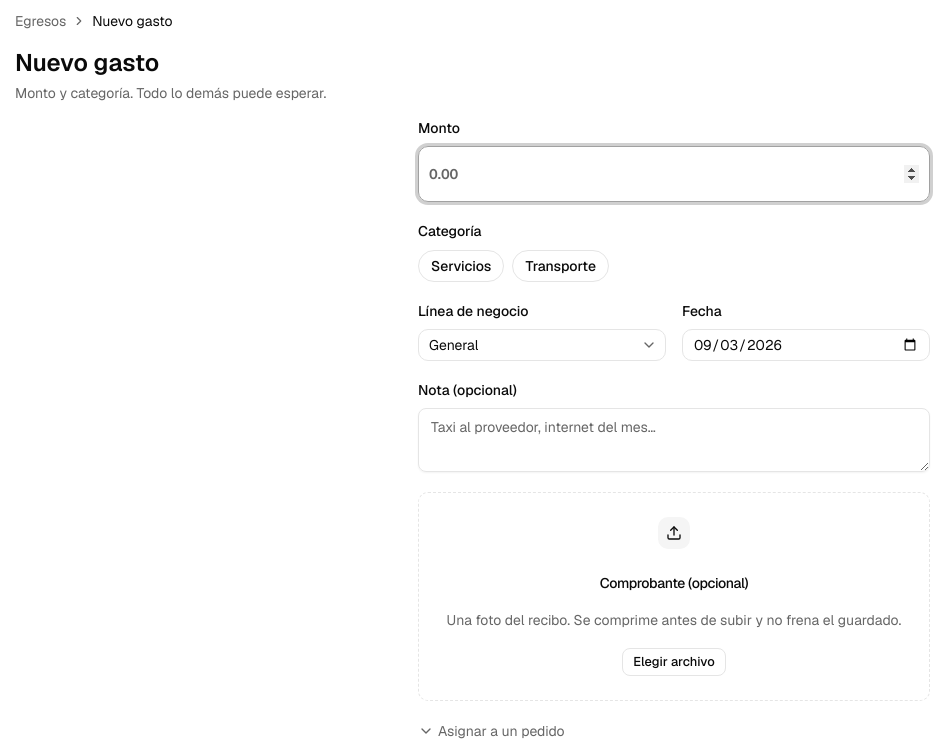
CostForm (V9) › con «Todas» activa queda General preseleccionada y se puede cambiar
This screenshot has width=950, height=751.
What coordinates should you click on to do the following:
click the dropdown with test id "line-select"
I would click on:
 (542, 345)
Its box is 418,329 -> 666,361.
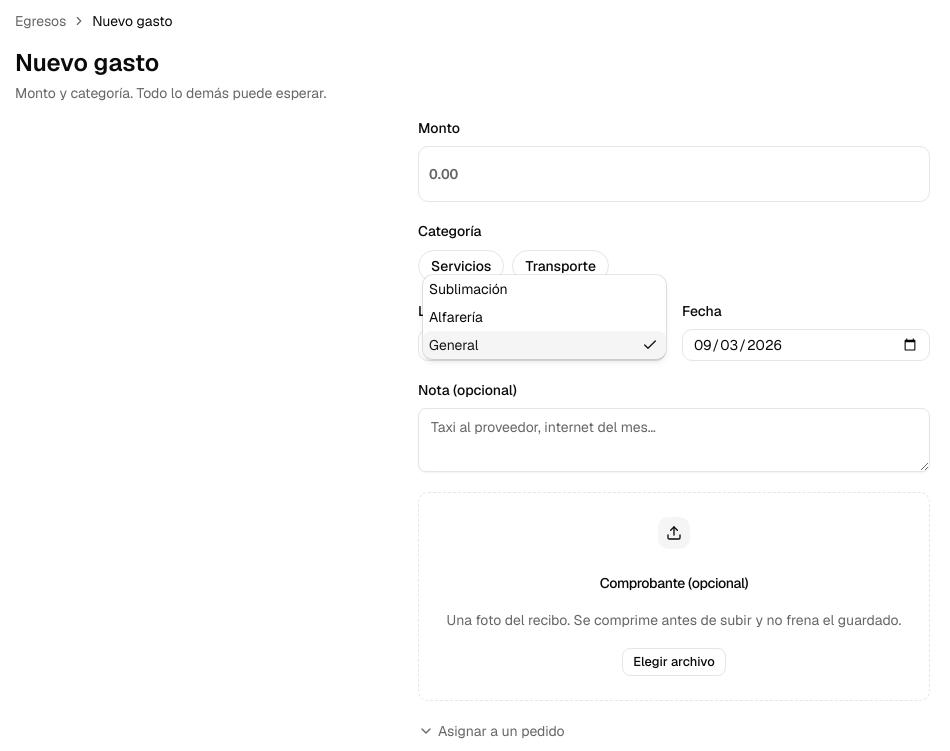
What coordinates should you click on to do the following:
click the option "Alfarería"
I would click on:
 (456, 317)
Its box is 429,308 -> 483,326.
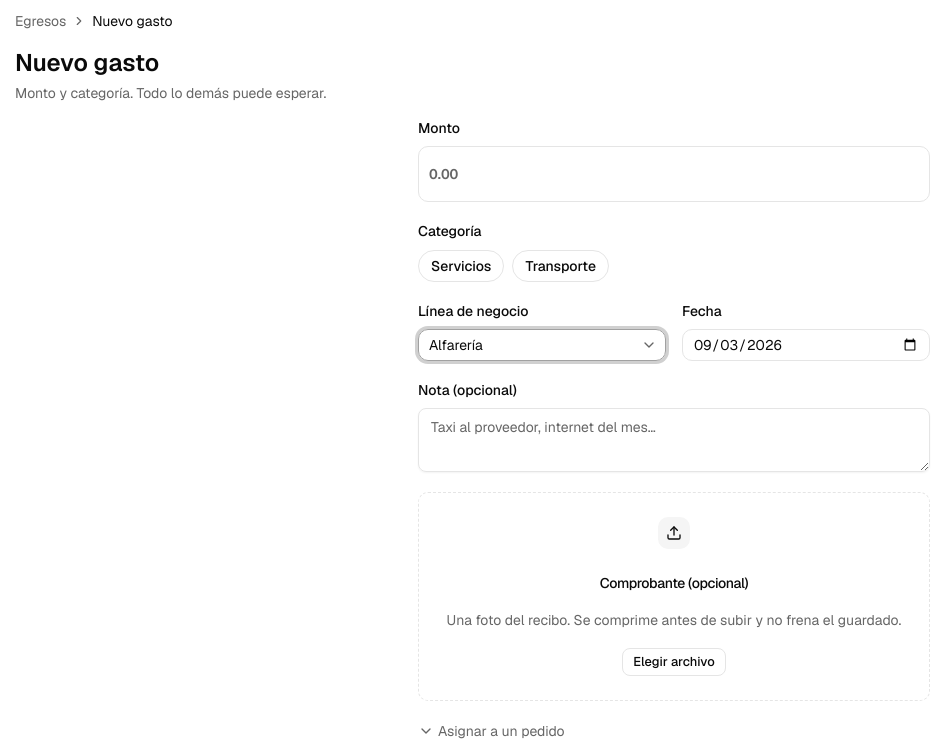
Expected: the dropdown with test id "line-select" reads "Alfarería", 418,329 -> 666,361
